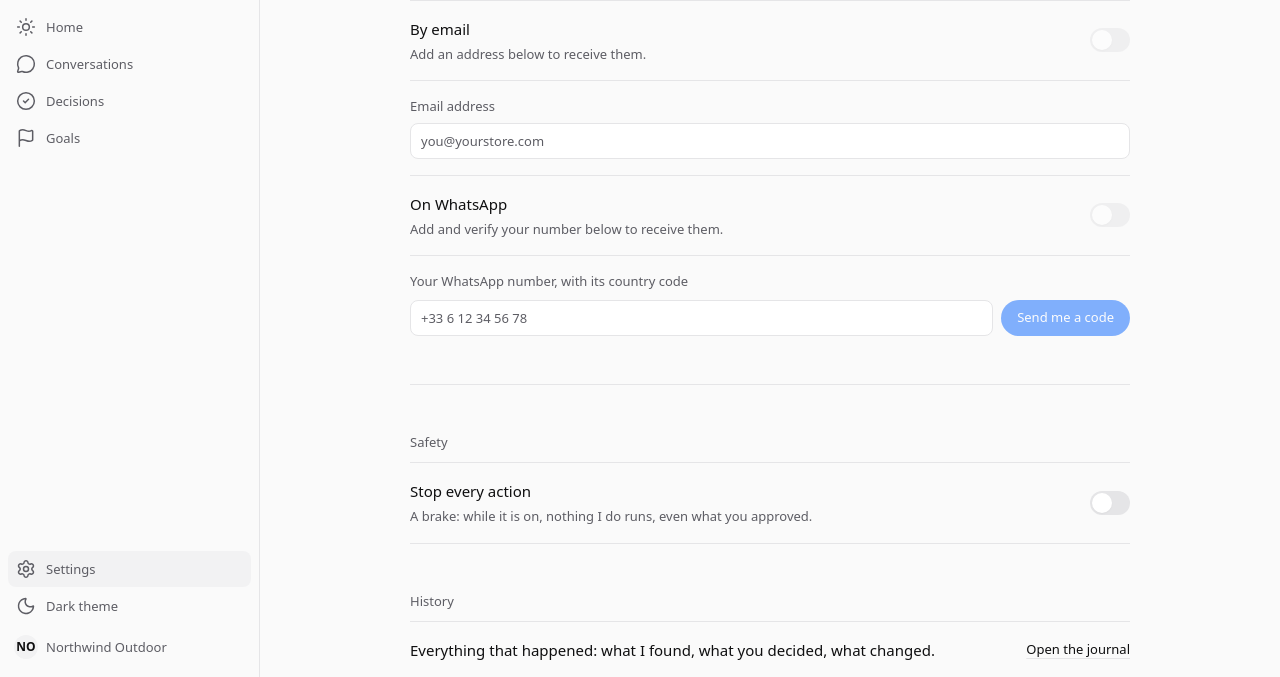
Scenario: Settings › says when WhatsApp is not set up on the server
(page scrolled)
Type "+15550001111" into the field labelled "Your WhatsApp number, with its country code" at (702, 318), box [410,300,993,336]
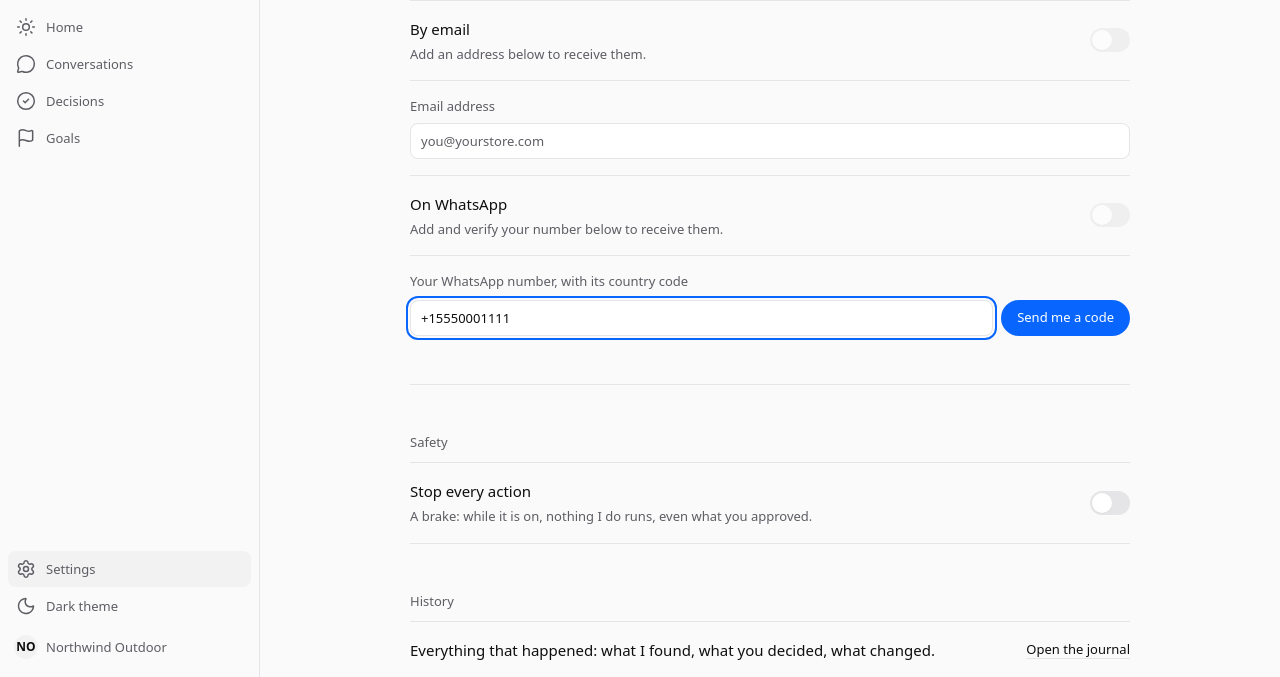
Click the button "Send me a code" at (1066, 318), box [1001,300,1130,336]
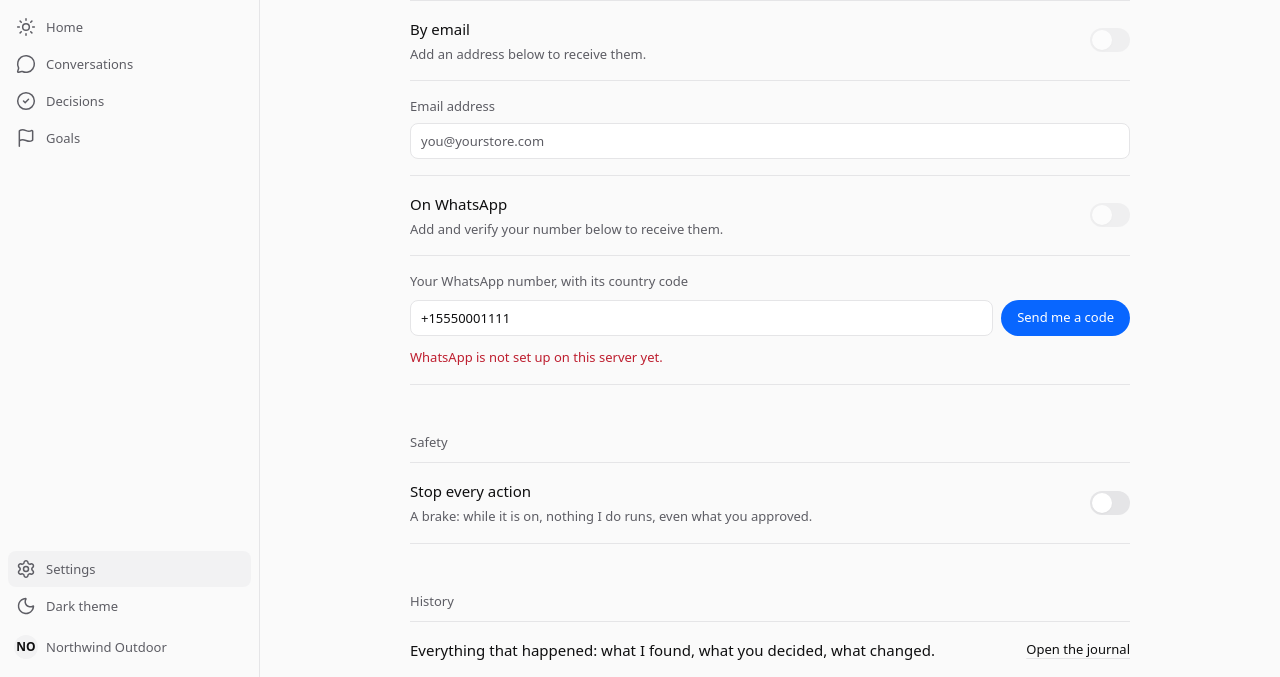
expect the text "WhatsApp is not set up on this server yet." is shown: met, box [410,348,663,366]
